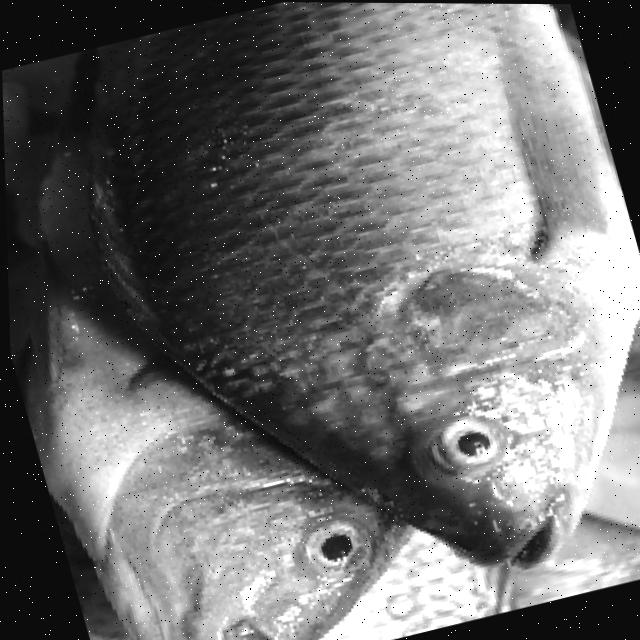Fresh: (112, 1, 640, 632), (276, 499, 380, 587)
